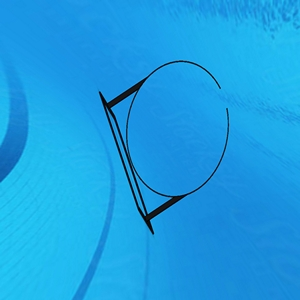circle: (97, 55, 234, 236)
